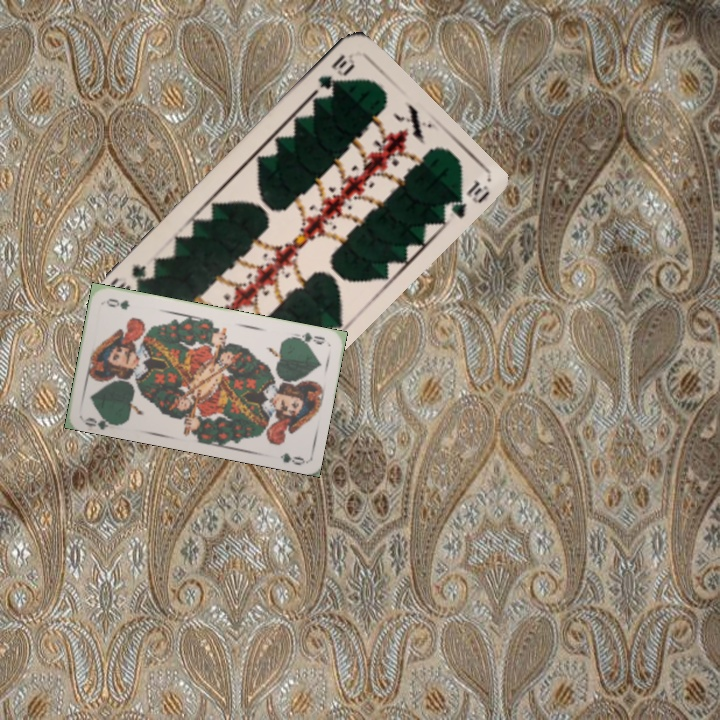G10: (313, 50, 358, 93)
GO: (80, 410, 121, 431), (288, 328, 328, 348)
